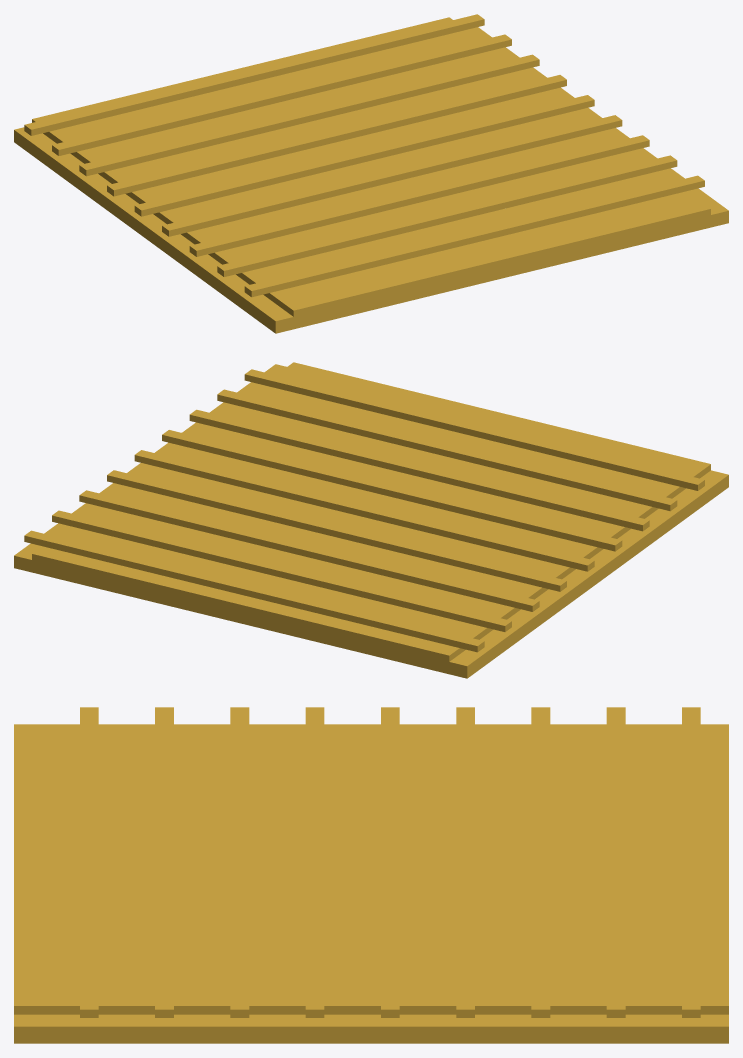
The model's file is sheet_kevlar.glb.
3 views of the same model, one above another, from view 1: azimuth 30°, elevation 25°; view 2: azimuth 150°, elevation 25°; view 3: azimuth 270°, elevation 25° (orthographic). The views are drawn at different scales.
Parts seen in each view (by area): view 1: sheet_kevlar:compound; view 2: sheet_kevlar:compound; view 3: sheet_kevlar:compound.
Boxes of the visible parts, box(x1,y1,x2,y2) form: sheet_kevlar:compound: box(14, 14, 728, 333); sheet_kevlar:compound: box(14, 362, 728, 678); sheet_kevlar:compound: box(14, 707, 728, 1043).
Size of the model in its own units: 0.152 by 0.008 by 0.152.
